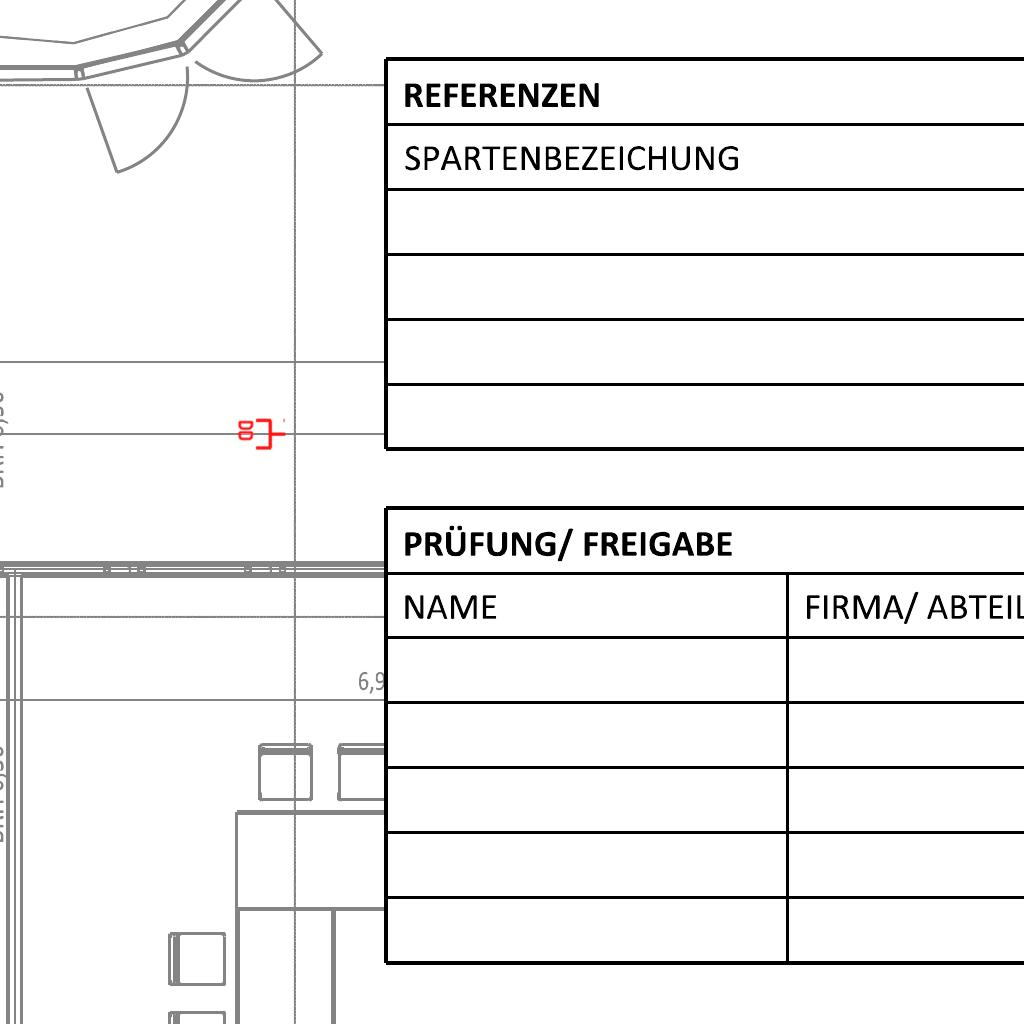Datenanschluss_zweifach: (236, 418, 287, 452)
